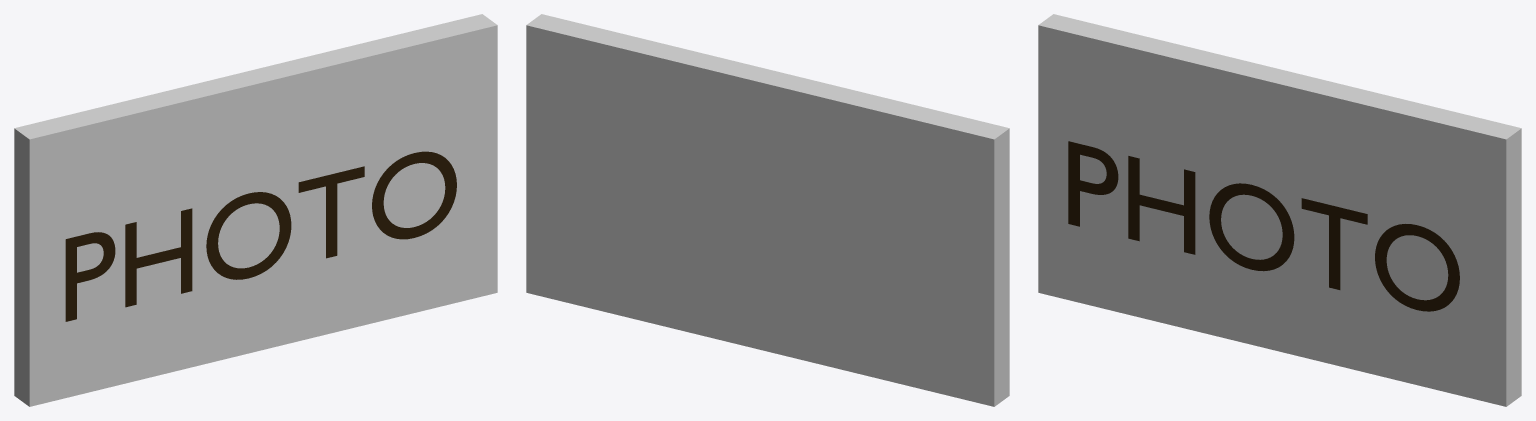
Rendered from menu_photo.gltf.
3 views of the same model, side by side, from view 1: azimuth 30°, elevation 25°; view 2: azimuth 150°, elevation 25°; view 3: azimuth 330°, elevation 25° (orthographic).
Visible parts, largest first — view 1: Cube.008, Text.005; view 2: Cube.008; view 3: Cube.008, Text.005.
Boxes of the visible parts, x1=… form: Cube.008: x1=14, y1=14, x2=497, y2=406; Text.005: x1=65, y1=151, x2=456, y2=321; Cube.008: x1=526, y1=14, x2=1009, y2=406; Cube.008: x1=1038, y1=14, x2=1521, y2=406; Text.005: x1=1068, y1=141, x2=1459, y2=311.
Bounding box in the file's own units: 0.2811 × 0.1535 × 0.0189.
